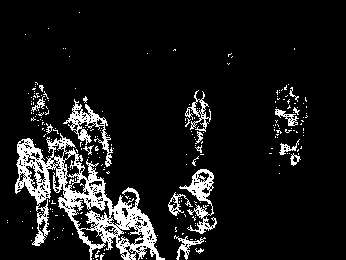person: (170, 167, 215, 260), (60, 177, 115, 251), (15, 139, 51, 246), (66, 94, 118, 165), (114, 188, 160, 257), (46, 129, 83, 194), (186, 88, 211, 163), (287, 92, 309, 166), (275, 83, 290, 137)
